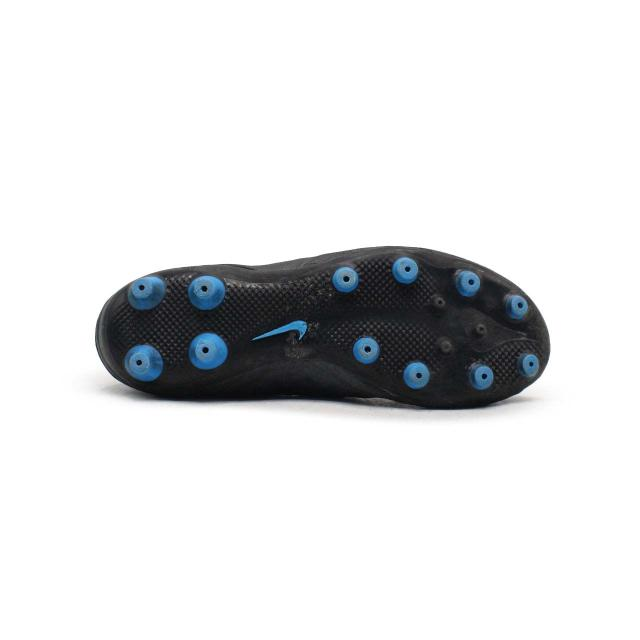outersole: (98, 248, 552, 415)
